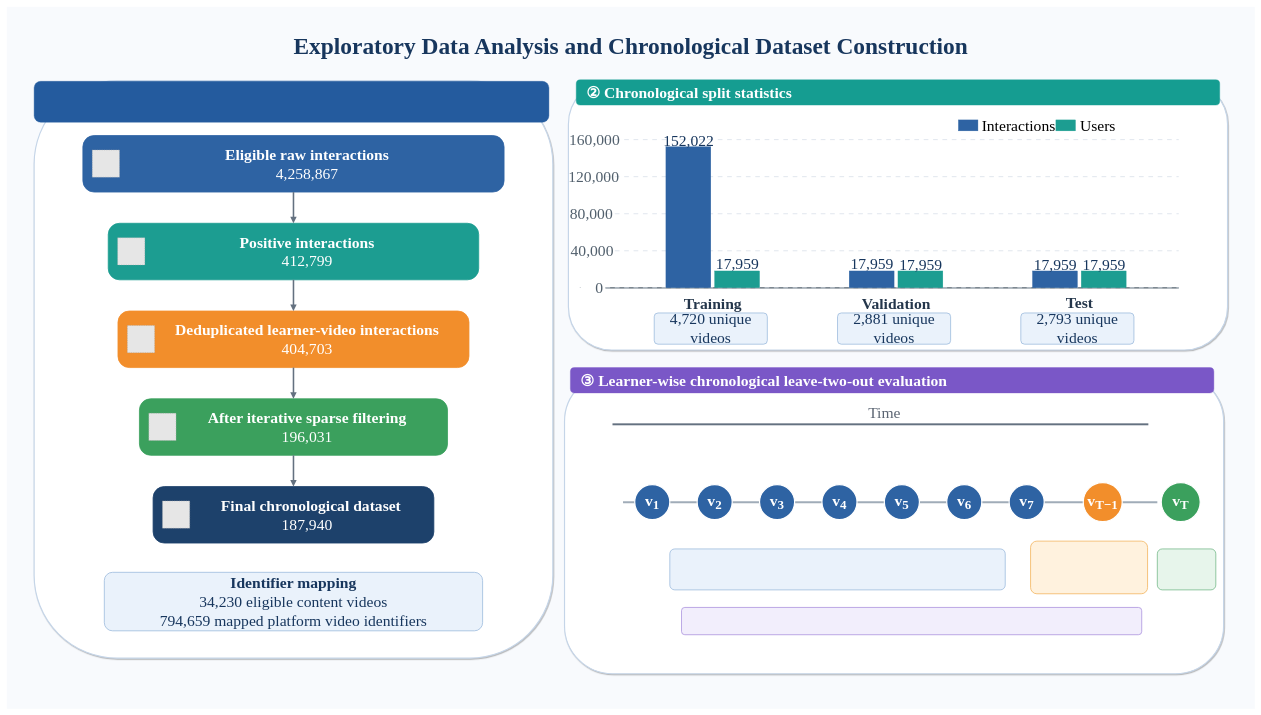
The diagram is 1261 pixels wide and 715 high, and some of its shapes have lost their labels. Grey dashed boxes stand in for pictures. Each missing label, with the centre of its shape:
All validation and test targets occur in the training catalogue: pixel 911 621
Earlier interactions Training history: pixel 837 569
Test target: pixel 1186 569
Validation target Checkpoint selection: pixel 1089 567
① Interaction preprocessing and filtering: pixel 291 101
